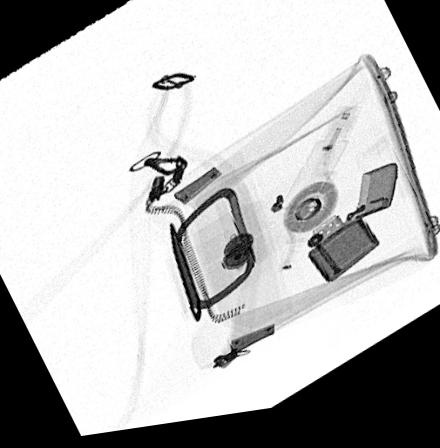Lighter: (306, 174, 399, 293)
